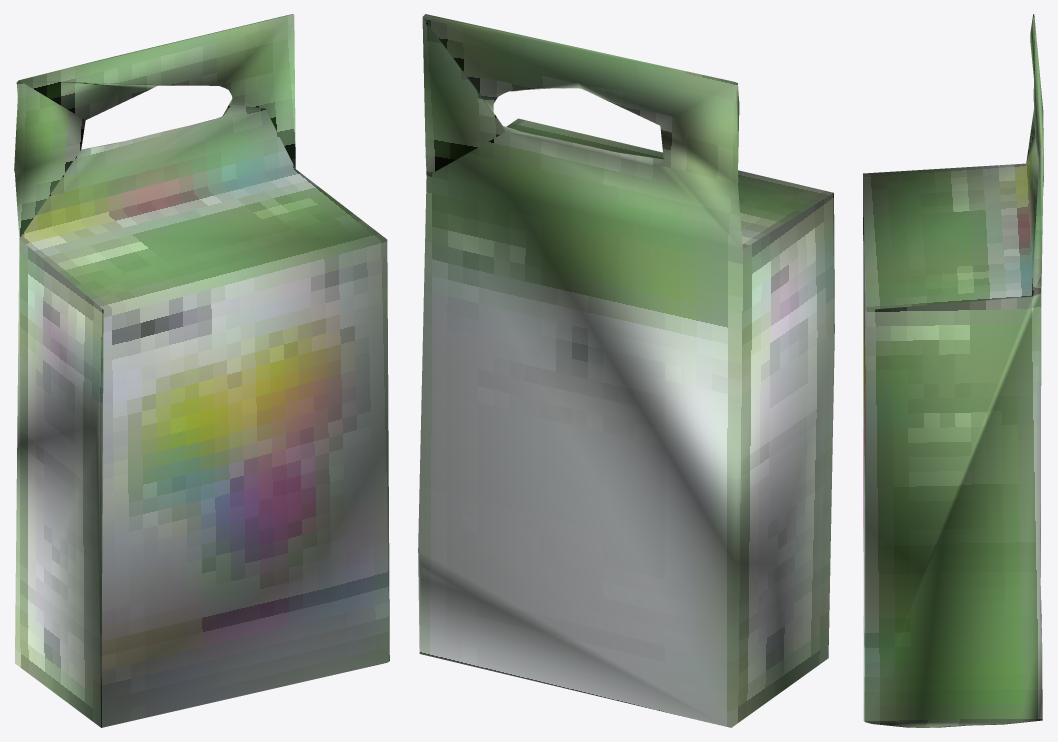
Rendered from Dell_Series_9_Color_Ink_Cartridge_MK993_High_Yield-low.glb.
3 renders of one model, left to right at view 1: azimuth 30°, elevation 25°; view 2: azimuth 150°, elevation 25°; view 3: azimuth 270°, elevation 25°, orthographic. The views are drawn at different scales.
Parts seen in each view (by area): view 1: Dell_Series_9_Color_Ink_Cartridge_MK993_High_Yield; view 2: Dell_Series_9_Color_Ink_Cartridge_MK993_High_Yield; view 3: Dell_Series_9_Color_Ink_Cartridge_MK993_High_Yield.
Part boxes in pixels (x1=…): Dell_Series_9_Color_Ink_Cartridge_MK993_High_Yield: x1=14, y1=14, x2=389, y2=727; Dell_Series_9_Color_Ink_Cartridge_MK993_High_Yield: x1=418, y1=14, x2=834, y2=727; Dell_Series_9_Color_Ink_Cartridge_MK993_High_Yield: x1=863, y1=14, x2=1043, y2=727.
Bounding box in the file's own units: 0.069 × 0.1339 × 0.0379.
Materials: 1 (1 with a texture image).
